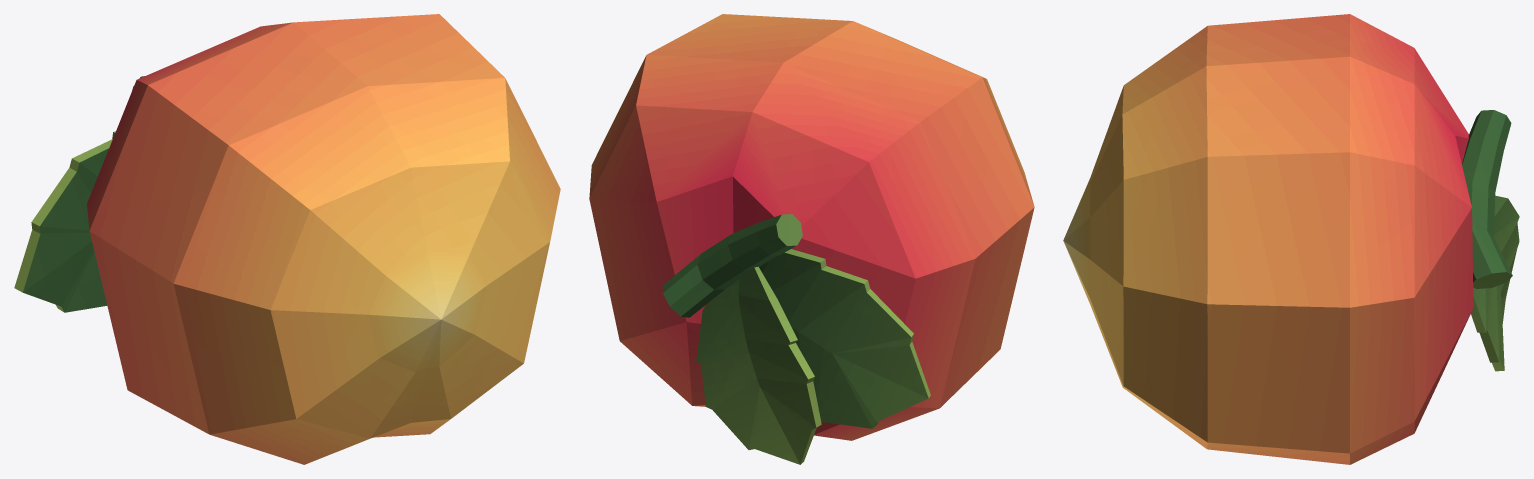
File: peach.fbx
3 renders of one model, left to right at view 1: azimuth 30°, elevation 25°; view 2: azimuth 150°, elevation 25°; view 3: azimuth 270°, elevation 25°, orthographic. The views are drawn at different scales.
Visible parts, largest first — view 1: fruit, leaf; view 2: fruit, leaf; view 3: fruit, leaf.
Part boxes in pixels (x1,y1,x2,y2): fruit: [87, 14, 560, 464]; leaf: [14, 76, 144, 312]; fruit: [589, 14, 1034, 440]; leaf: [663, 214, 930, 464]; fruit: [1063, 14, 1473, 464]; leaf: [1462, 110, 1519, 371].
Size of what is drawn, in the model's own units: 5.36 by 4.68 by 5.18.
